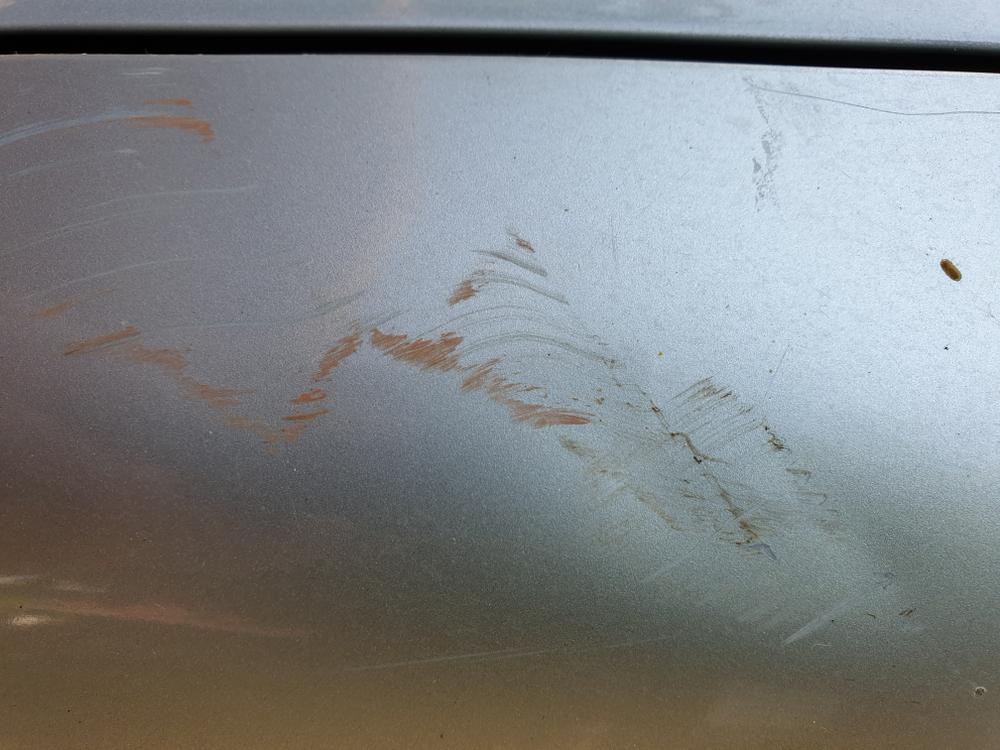scratch: (0, 68, 887, 646)
